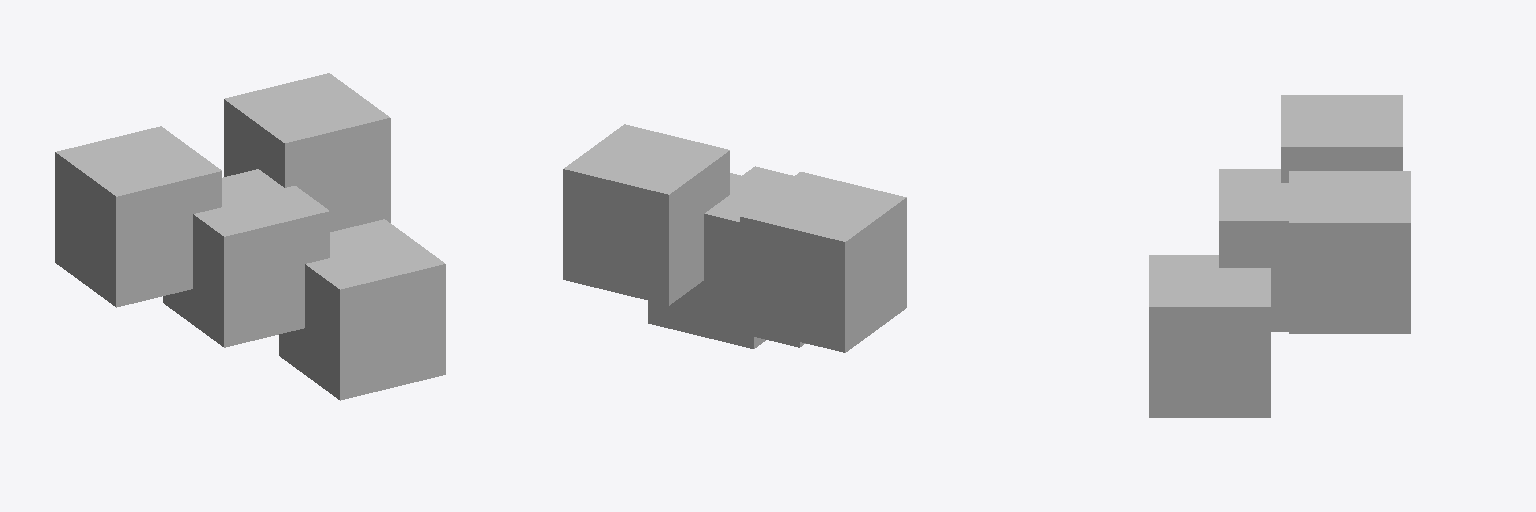
The model's file is Cubes.obj.
The picture shows the model from 3 angles: view 1: azimuth 30°, elevation 25°; view 2: azimuth 150°, elevation 25°; view 3: azimuth 270°, elevation 25°; orthographic projection.
Parts seen in each view (by area): view 1: Cube.002_Cube.003, Cube.001_Cube.002, Cube_Cube.001, Cube.003_Cube.004; view 2: Cube.002_Cube.003, Cube.003_Cube.004, Cube_Cube.001, Cube.001_Cube.002; view 3: Cube.003_Cube.004, Cube.001_Cube.002, Cube.002_Cube.003, Cube_Cube.001.
Part boxes in pixels (x1,y1,x2,y2): Cube.002_Cube.003: (55,126,221,307); Cube.001_Cube.002: (279,219,445,400); Cube_Cube.001: (163,169,329,347); Cube.003_Cube.004: (224,73,390,231); Cube.002_Cube.003: (740,172,906,352); Cube.003_Cube.004: (563,124,729,305); Cube_Cube.001: (694,166,805,347); Cube.001_Cube.002: (648,173,765,348); Cube.003_Cube.004: (1289,171,1410,333); Cube.001_Cube.002: (1149,255,1270,417); Cube.002_Cube.003: (1281,95,1402,182); Cube_Cube.001: (1219,169,1288,331).
Bounding box in the file's own units: 5.25 × 3.65 × 4.29.